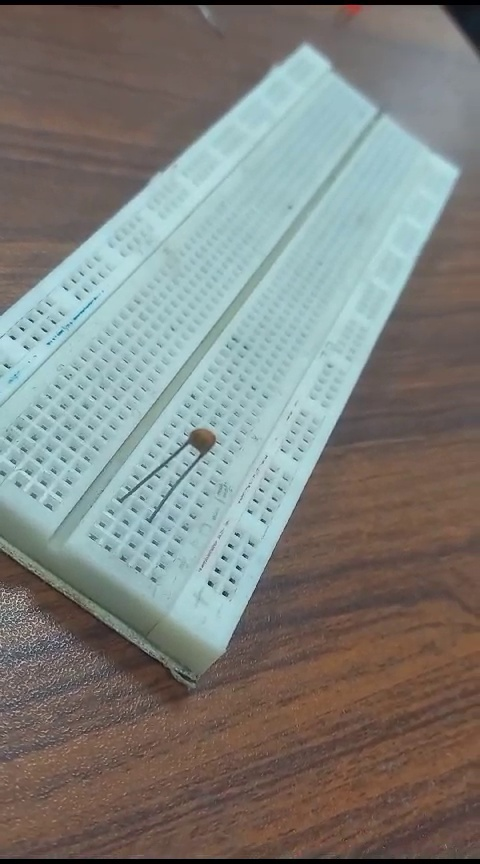ceramic capacitor: (184, 417, 230, 485)
